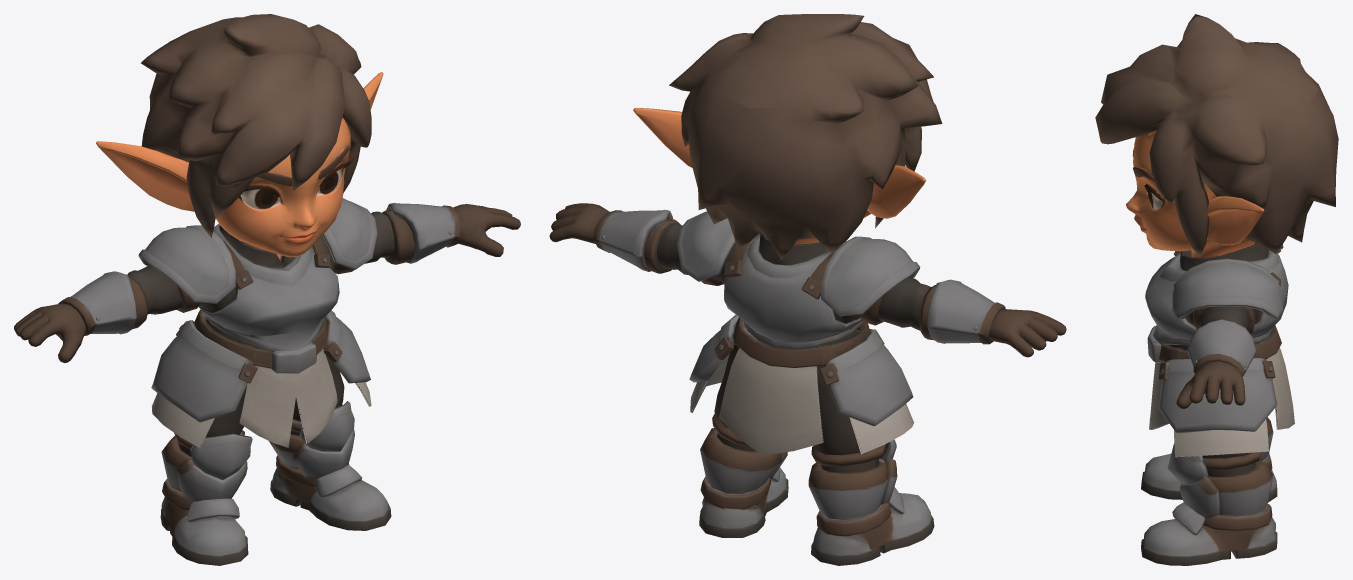
File: tripo_convert_d8680742-589d-461e-a586-f98dd679cc23.fbx
3 renders of one model, left to right at view 1: azimuth 30°, elevation 25°; view 2: azimuth 150°, elevation 25°; view 3: azimuth 270°, elevation 25°, orthographic. The views are drawn at different scales.
Visible parts, largest first — view 1: tripo_node_d8680742; view 2: tripo_node_d8680742; view 3: tripo_node_d8680742.
Boxes of the visible parts, x1,y1,x2,y2 form: tripo_node_d8680742: (14,14,520,565); tripo_node_d8680742: (549,14,1066,565); tripo_node_d8680742: (1095,14,1338,565).
Size of the model in its own units: 0.9995 by 0.9819 by 0.4487.
1 material, 1 textured.
